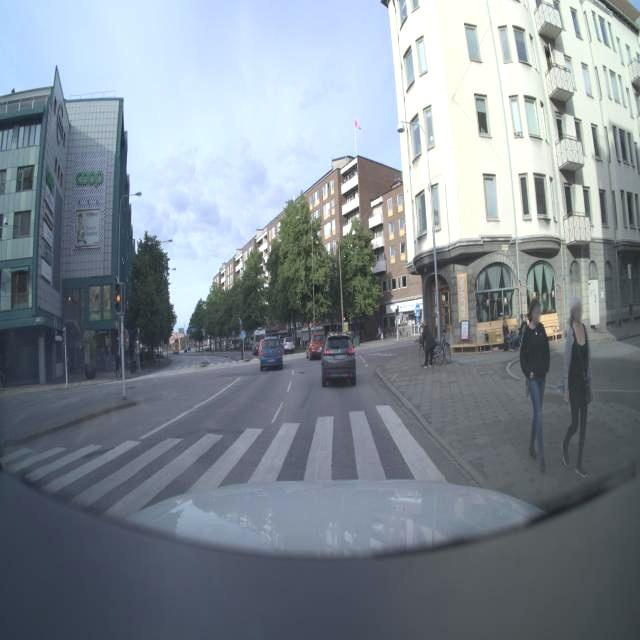Red: (100, 277, 142, 328)
